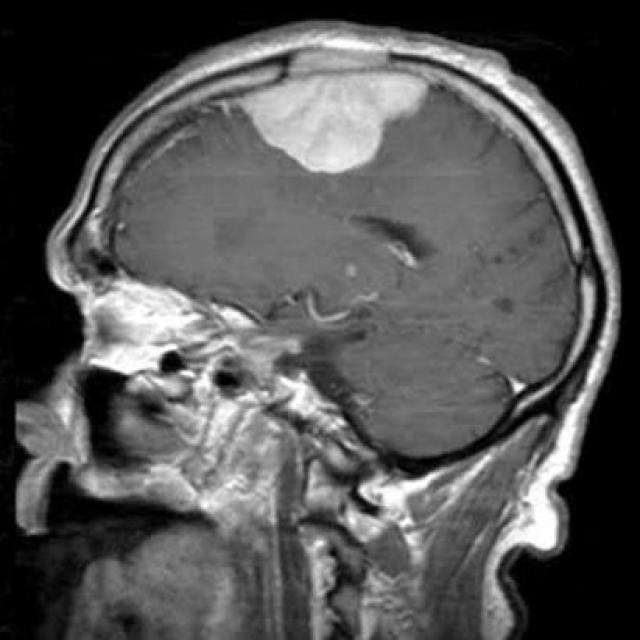brain_tumor: (238, 71, 429, 173)
